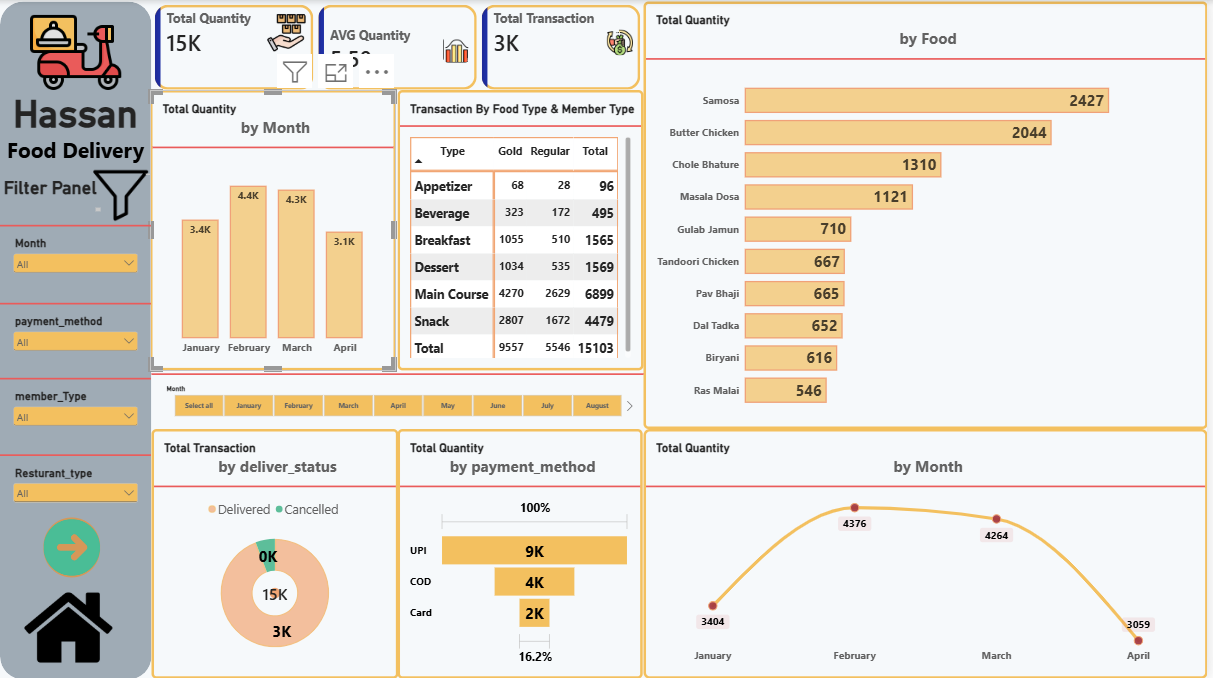

The page's visual inventory and layout, read from the dashboard file:
{"tool":"powerbi","page":{"name":"Hassan Dashbord","canvas":[1920,1080],"ordinal":0},"visuals":[{"type":"shape","box":[0,2.5,241,1078.4],"z":0},{"type":"cardVisual","fields":{"Data":["Sales Data.Total Quantity","Sales Data.AVG Quantity","Sales Data.Total Transaction"]},"box":[241,2.4,782.6,145.5],"z":1000},{"type":"image","box":[0,7.2,241,150.3],"z":2000},{"type":"columnChart","fields":{"Category":["Sales Data.orderDate.Variation.Date Hierarchy.Month"],"Y":["Sales Data.Total Quantity"]},"box":[238.6,143.2,391.3,446.2],"z":3000},{"type":"pivotTable","title":"Transaction By Food Type & Member Type","fields":{"Columns":["Customer Details.member_Type"],"Rows":["Food_Details.Type"],"Values":["Sales Data.Total Quantity"]},"box":[632.3,143.2,391.3,446.2],"z":4000},{"type":"donutChart","fields":{"Category":["Sales Data.deliver_status"],"Y":["Sales Data.Total Transaction"]},"box":[240,682.5,392.5,397.5],"z":5000},{"type":"funnel","fields":{"Category":["Sales Data.payment_method"],"Y":["Sales Data.Total Quantity"]},"box":[633,683,390,397],"z":6000},{"type":"lineChart","fields":{"Category":["Sales Data.orderDate.Variation.Date Hierarchy.Month"],"Y":["Sales Data.Total Quantity"]},"box":[1022.5,682.5,897.5,397.5],"z":7000},{"type":"barChart","fields":{"Category":["Food_Details.Food"],"Y":["Sales Data.Total Quantity"]},"box":[1022.5,2.5,897.5,680],"z":8000},{"type":"slicer","fields":{"Values":["Sales Data.orderDate.Variation.Date Hierarchy.Month"]},"box":[241,579.8,782.6,100.2],"z":9000},{"type":"slicer","fields":{"Values":["Sales Data.orderDate.Variation.Date Hierarchy.Month"]},"box":[0,342.5,240,120],"z":10000},{"type":"slicer","fields":{"Values":["Sales Data.payment_method"]},"box":[0,467.5,240,120],"z":11000},{"type":"slicer","fields":{"Values":["Customer Details.member_Type"]},"box":[0,587.5,240,120],"z":12000},{"type":"slicer","fields":{"Values":["Resturant_Details.Resturant_type"]},"box":[0,707.5,240,120],"z":13000},{"type":"image","box":[22.5,927.5,175,140],"z":14000},{"type":"image","box":[70,822.5,90,95],"z":15000},{"type":"image","box":[137.5,267.5,107.5,87.5],"z":16000},{"type":"textbox","title":"Hassan","box":[0,145,240,132.5],"z":17000},{"type":"textbox","title":"Filter Panel","box":[0,282.5,160,55],"z":18000}]}

Visuals, with their boxes in screenshot pixels (x1, y1, x2, y2), scaled from the page's 1920x1080 canvas onto the 1213x678 screenshot:
shape: pyautogui.locateOnScreen(0, 2, 152, 677)
cardVisual - Sales Data.Total Quantity x Sales Data.AVG Quantity: pyautogui.locateOnScreen(152, 2, 647, 93)
image: pyautogui.locateOnScreen(0, 5, 152, 99)
columnChart - Sales Data.orderDate.Variation.Date Hierarchy.Month x Sales Data.Total Quantity: pyautogui.locateOnScreen(151, 90, 398, 370)
"Transaction By Food Type & Member Type" pivotTable: pyautogui.locateOnScreen(399, 90, 647, 370)
donutChart - Sales Data.deliver_status x Sales Data.Total Transaction: pyautogui.locateOnScreen(152, 428, 400, 677)
funnel - Sales Data.payment_method x Sales Data.Total Quantity: pyautogui.locateOnScreen(400, 429, 646, 677)
lineChart - Sales Data.orderDate.Variation.Date Hierarchy.Month x Sales Data.Total Quantity: pyautogui.locateOnScreen(646, 428, 1212, 677)
barChart - Food_Details.Food x Sales Data.Total Quantity: pyautogui.locateOnScreen(646, 2, 1212, 428)
slicer - Sales Data.orderDate.Variation.Date Hierarchy.Month: pyautogui.locateOnScreen(152, 364, 647, 427)
slicer - Sales Data.orderDate.Variation.Date Hierarchy.Month: pyautogui.locateOnScreen(0, 215, 152, 290)
slicer - Sales Data.payment_method: pyautogui.locateOnScreen(0, 293, 152, 369)
slicer - Customer Details.member_Type: pyautogui.locateOnScreen(0, 369, 152, 444)
slicer - Resturant_Details.Resturant_type: pyautogui.locateOnScreen(0, 444, 152, 519)
image: pyautogui.locateOnScreen(14, 582, 125, 670)
image: pyautogui.locateOnScreen(44, 516, 101, 576)
image: pyautogui.locateOnScreen(87, 168, 155, 223)
"Hassan" textbox: pyautogui.locateOnScreen(0, 91, 152, 174)
"Filter Panel" textbox: pyautogui.locateOnScreen(0, 177, 101, 212)
